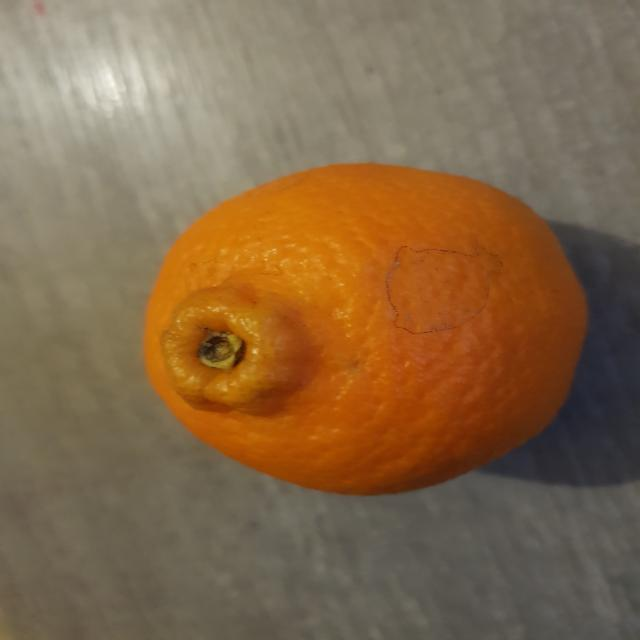Orange: (140, 163, 590, 499)
